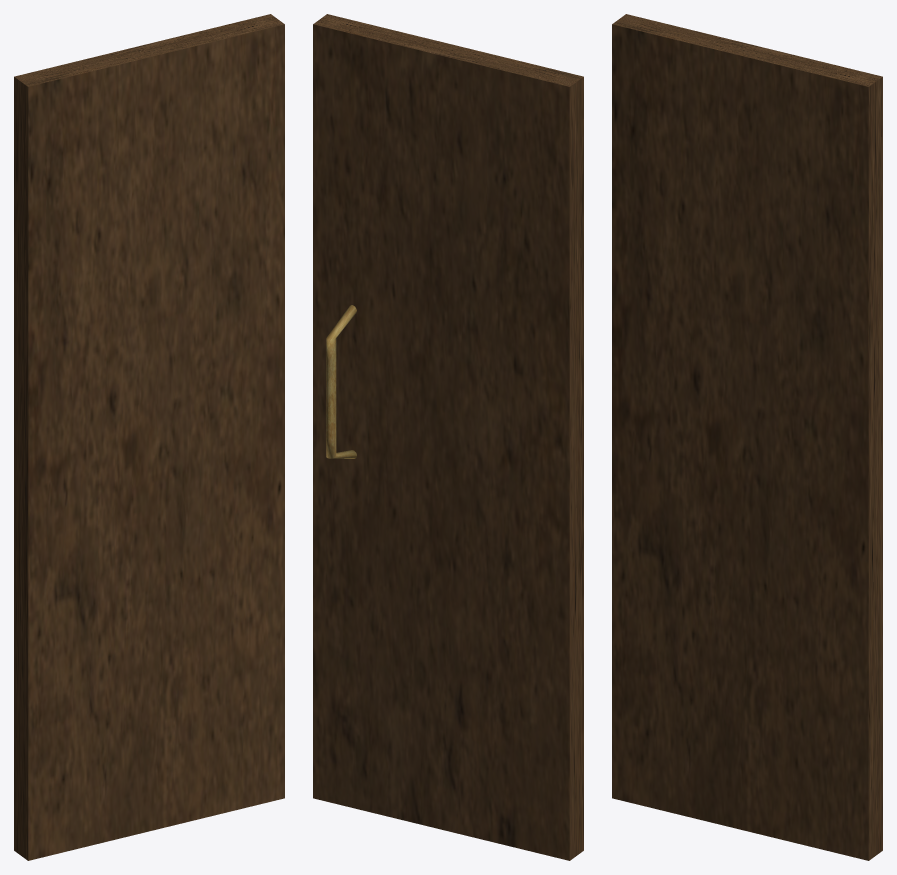
Rendered from Door.fbx.
3 views of the same model, side by side, from view 1: azimuth 30°, elevation 25°; view 2: azimuth 150°, elevation 25°; view 3: azimuth 330°, elevation 25° (orthographic).
Visible parts, largest first — view 1: pCube1; view 2: pCube1, pCylinder1; view 3: pCube1.
Boxes of the visible parts, x1,y1,x2,y2 form: pCube1: [14, 14, 284, 860]; pCube1: [313, 14, 583, 860]; pCylinder1: [326, 305, 356, 458]; pCube1: [612, 14, 882, 860].
Bounding box in the file's own units: 9.75 × 28.08 × 2.55.
